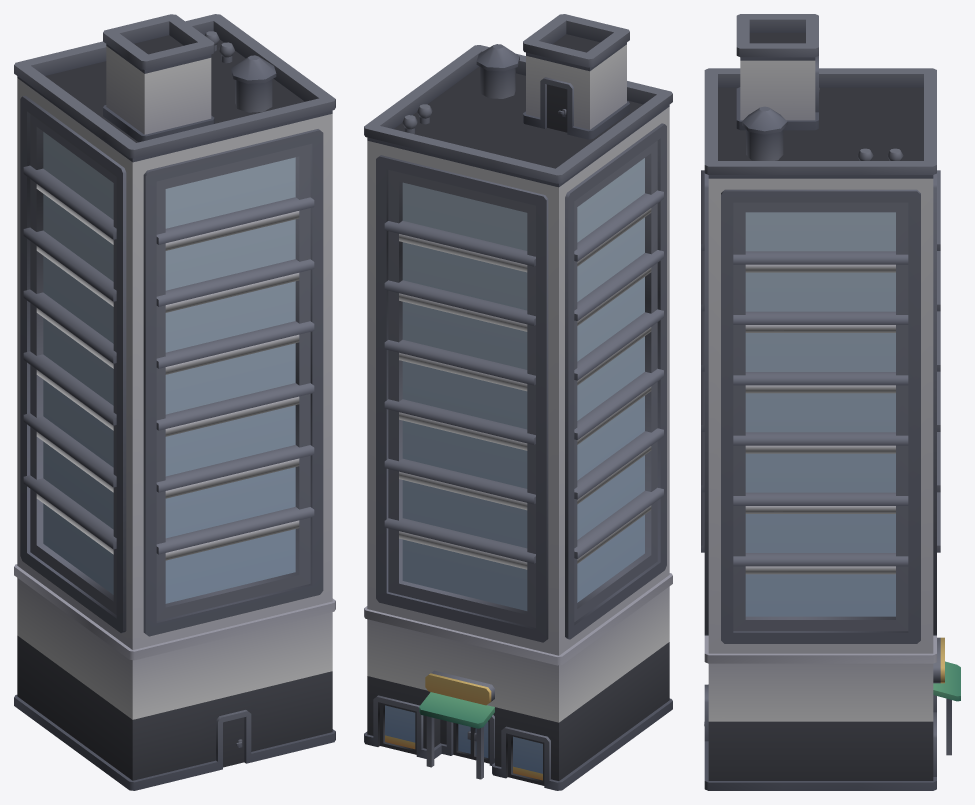
File: office-02.glb
3 views of the same model, side by side, from view 1: azimuth 30°, elevation 25°; view 2: azimuth 150°, elevation 25°; view 3: azimuth 270°, elevation 25° (orthographic). The views are drawn at different scales.
Parts seen in each view (by area): view 1: office-02; view 2: office-02; view 3: office-02.
Boxes of the visible parts, box(x1,y1,x2,y2) form: office-02: box(14, 14, 335, 790); office-02: box(364, 14, 672, 790); office-02: box(701, 14, 960, 790).
Bounding box in the file's own units: 0.9223 × 2.94 × 1.
